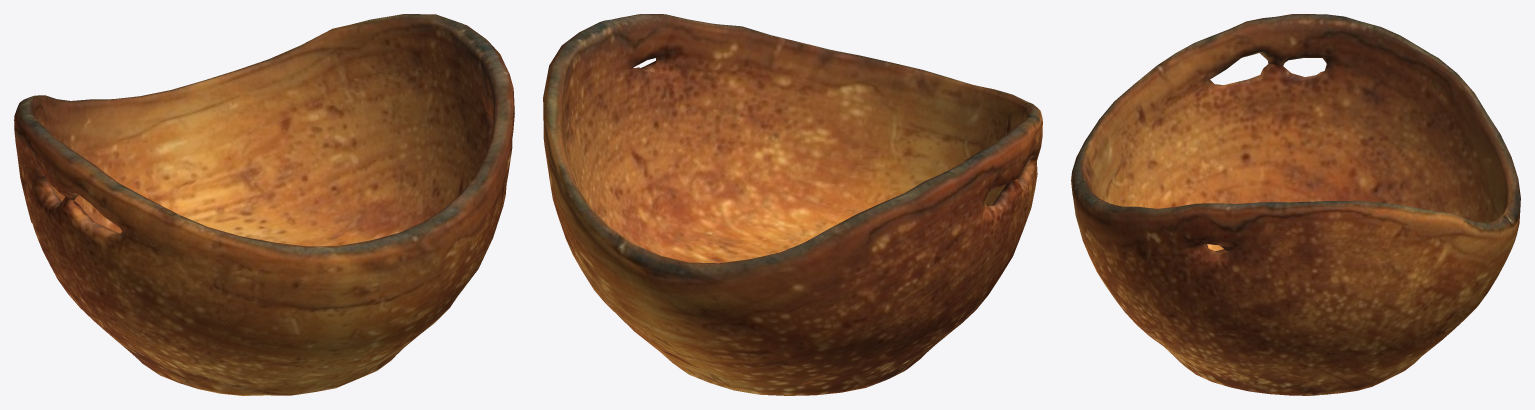
File: wooden_bowl_02.glb
3 views of the same model, side by side, from view 1: azimuth 30°, elevation 25°; view 2: azimuth 150°, elevation 25°; view 3: azimuth 270°, elevation 25° (orthographic). The views are drawn at different scales.
Parts seen in each view (by area): view 1: wooden_bowl_02; view 2: wooden_bowl_02; view 3: wooden_bowl_02.
Boxes of the visible parts, x1,y1,x2,y2 form: wooden_bowl_02: [14, 14, 514, 395]; wooden_bowl_02: [543, 14, 1042, 395]; wooden_bowl_02: [1071, 14, 1520, 395].
Size of the model in its own units: 0.1307 by 0.0731 by 0.1245.
1 material, 1 textured.
